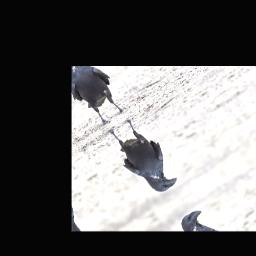Crow: (100, 112, 186, 202)
